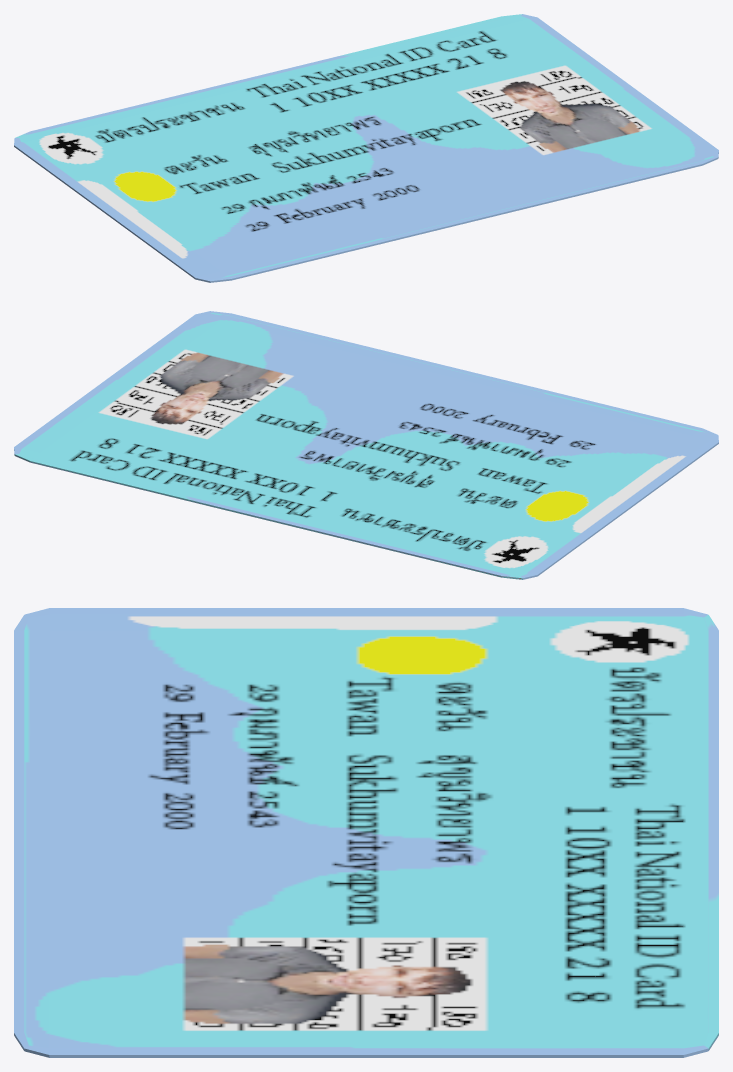
Rendered from card.glb.
3 views of the same model, one above another, from view 1: azimuth 30°, elevation 25°; view 2: azimuth 150°, elevation 25°; view 3: azimuth 270°, elevation 25° (orthographic). The views are drawn at different scales.
Visible parts, largest first — view 1: Cube; view 2: Cube; view 3: Cube.
Boxes of the visible parts, <box> form: Cube: <box>14,14,718,282</box>; Cube: <box>14,311,718,579</box>; Cube: <box>14,608,718,1057</box>.
Size of the model in its own units: 3 by 0.01 by 2.
Materials: 1 (1 with a texture image).
